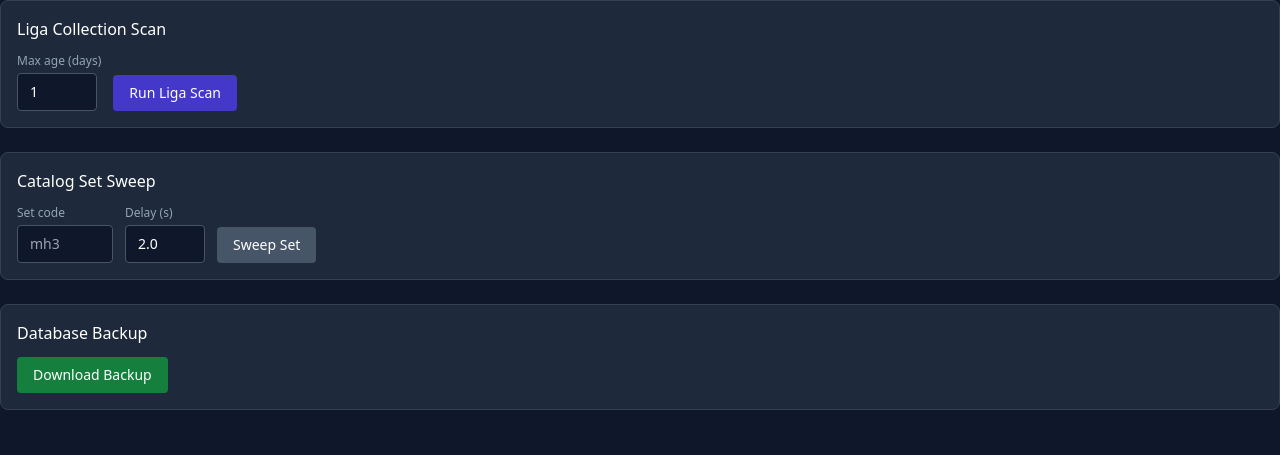
Test: AdminOperationsSection › shows error messages on API failure
The image size is (1280, 455).
Click the button with test id "run-liga-scan-btn" at [175, 93], box top-left (113, 75), bottom-right (237, 111)
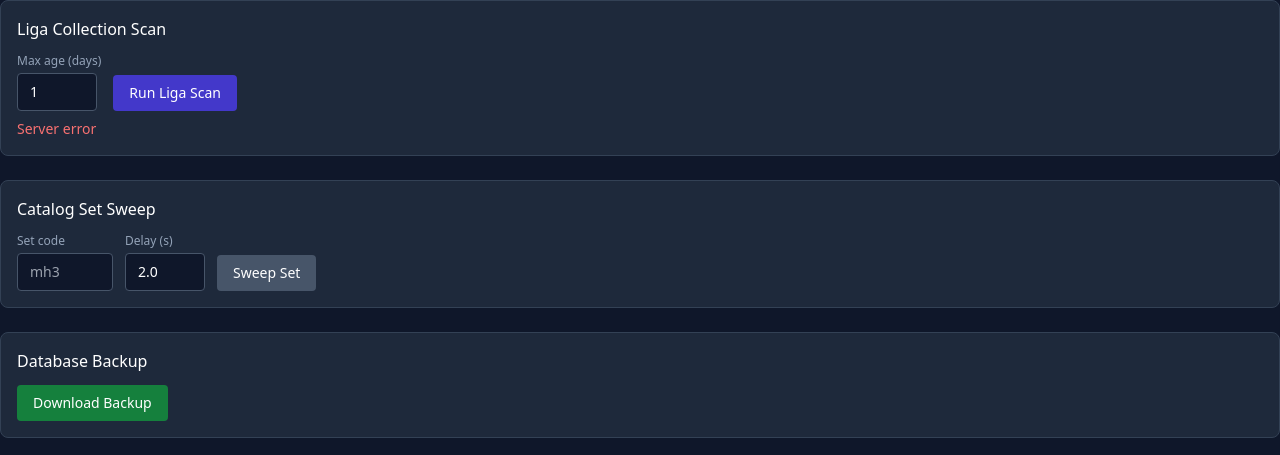
Expected: the text "Server error" is shown, top-left (17, 119), bottom-right (96, 138)
